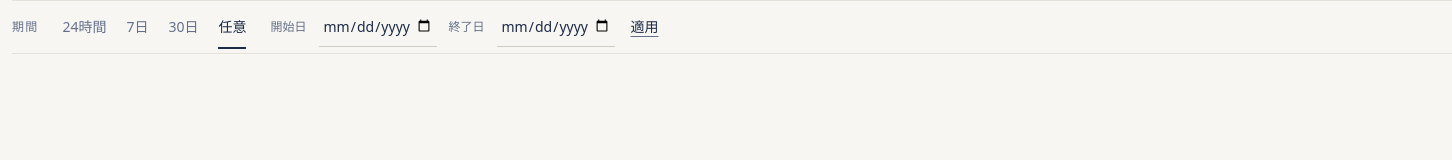
Test: FilterRow custom range › rejects an inverted range with a message and does not apply
This screenshot has width=1452, height=160.
Type "2026-07-10" into the date field labelled "開始日".
click(378, 27); type("2026-07-10")  # box [318,7,436,47]
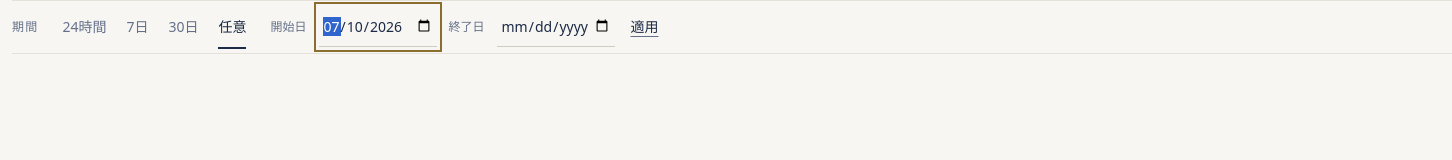
Type "2026-07-01" into the date field labelled "終了日".
click(556, 27); type("2026-07-01")  # box [496,7,614,47]
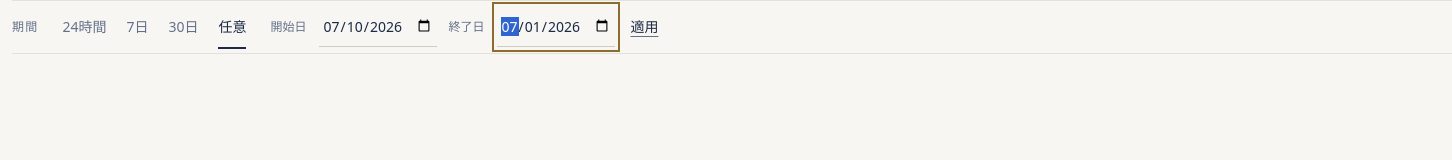
Click the button "適用".
click(644, 27)  # box [626,5,662,49]
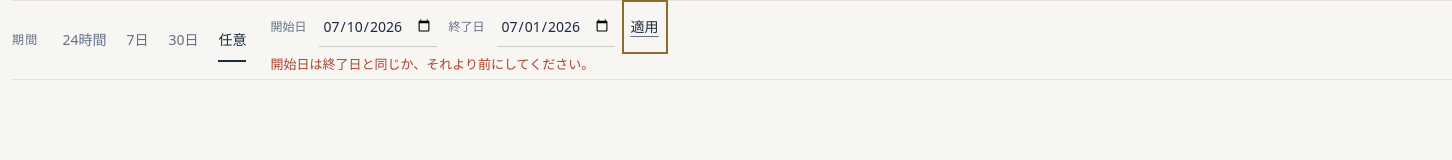
Now the message reads "開始日は終了日と同じか、それより前にしてください。", box [270,55,594,73]
